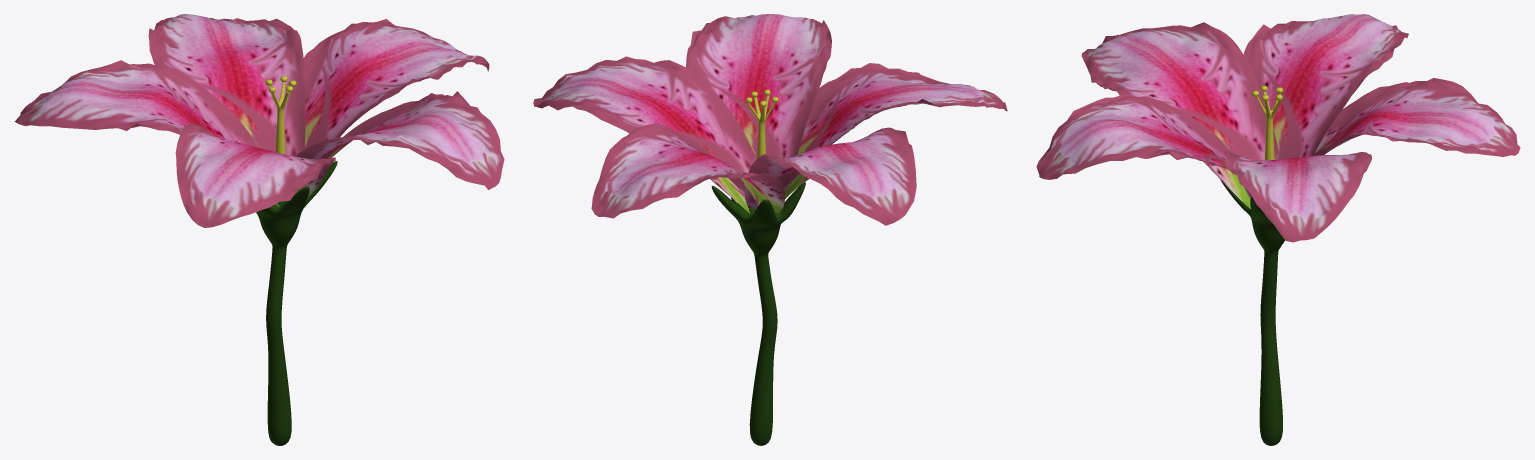
3 views of the same model, side by side, from view 1: azimuth 30°, elevation 25°; view 2: azimuth 150°, elevation 25°; view 3: azimuth 270°, elevation 25° (orthographic). The views are drawn at different scales.
Parts seen in each view (by area): view 1: Cylinder.001; view 2: Cylinder.001; view 3: Cylinder.001.
Part boxes in pixels (x1,y1,x2,y2): Cylinder.001: (14,14,504,445); Cylinder.001: (533,14,1007,445); Cylinder.001: (1036,14,1520,445).
Size of the model in its own units: 5.85 by 4.82 by 5.89.
Materials: 3 (2 with a texture image).
